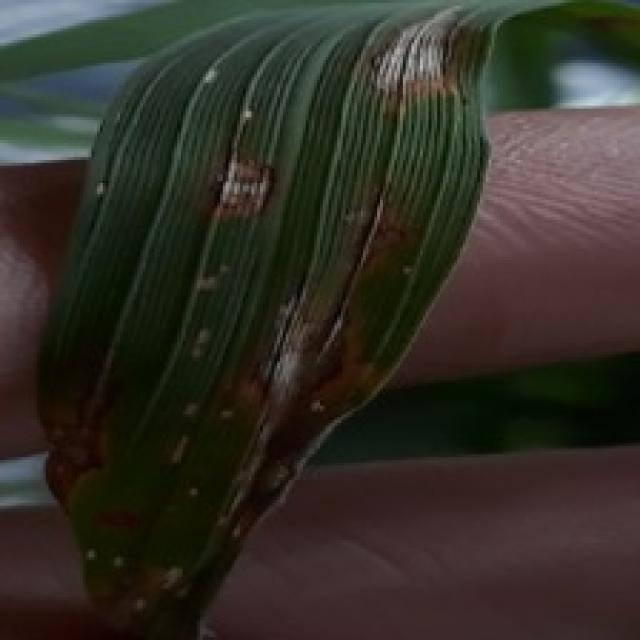Unhealthy: (211, 182, 421, 553), (356, 5, 471, 124), (43, 392, 115, 517), (187, 156, 280, 225), (197, 266, 229, 292), (192, 328, 212, 361), (170, 433, 188, 467), (161, 564, 185, 588), (180, 400, 201, 423), (218, 406, 237, 426), (111, 555, 127, 573), (185, 485, 202, 501), (132, 596, 147, 613), (84, 549, 100, 561)
